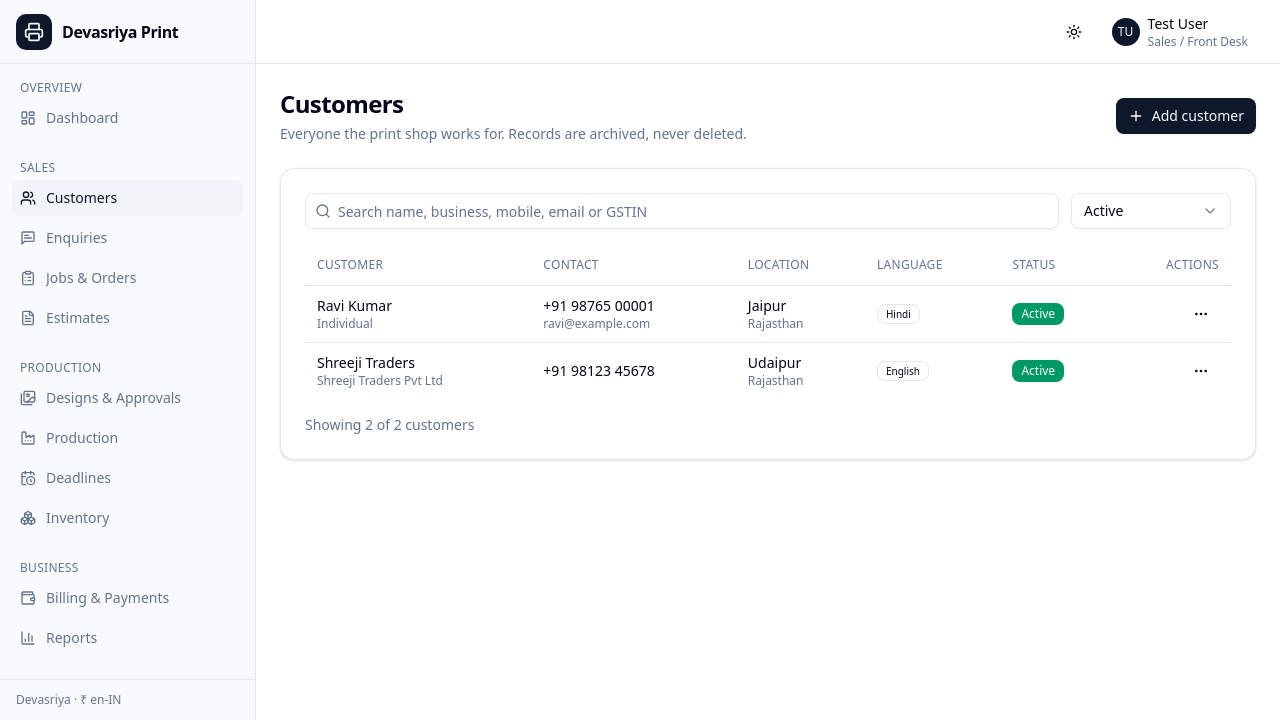
Test: customer directory › shows an empty state when nothing matches
Step 1. Type "nobody" into the field named "Search customers" → point(682, 211), box [305, 193, 1059, 229]
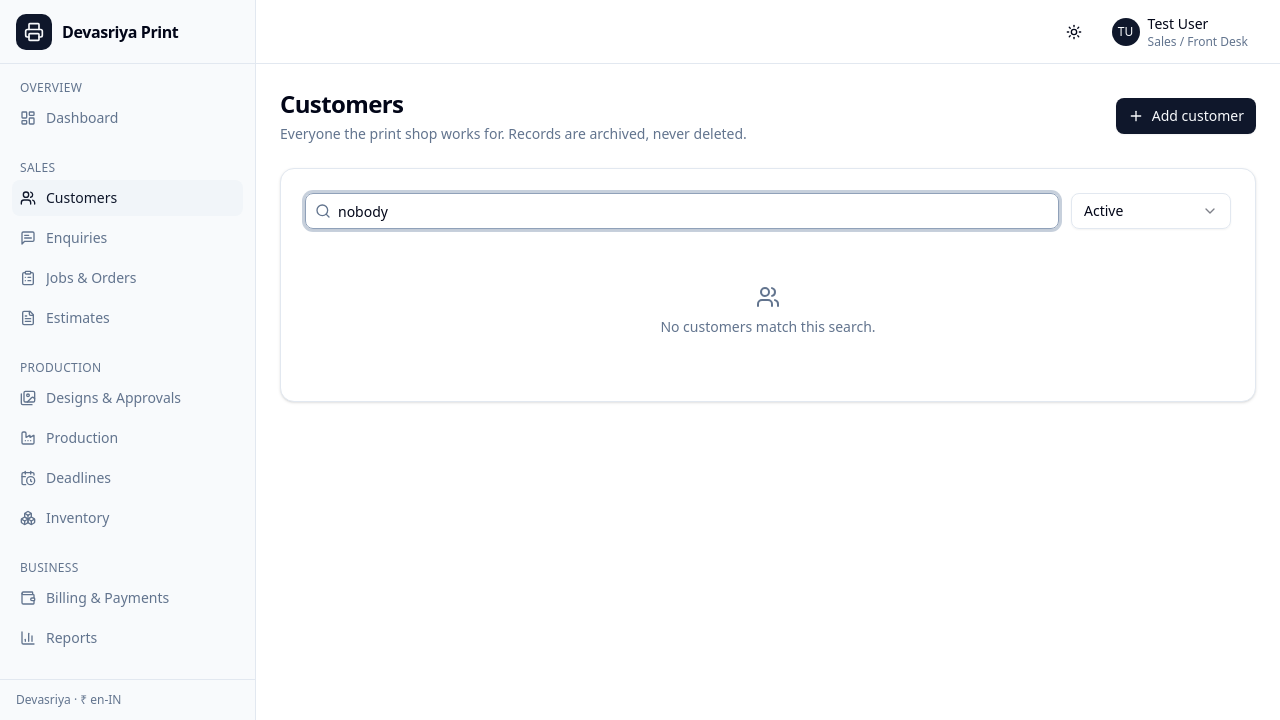
Result: the text "No customers match this search." is shown at [660, 317, 876, 337]
